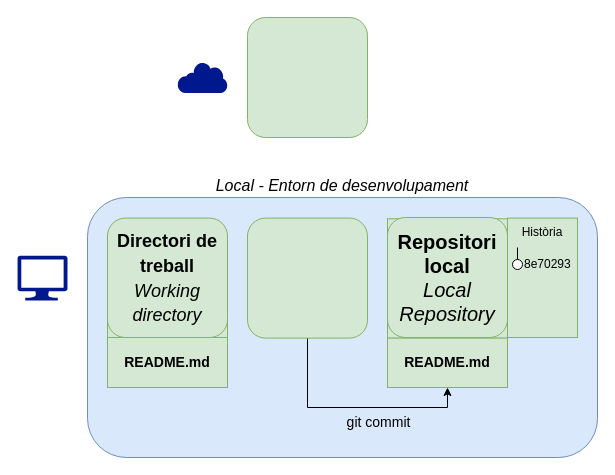
The diagram is 615 pixels wide and 475 high, and some of its shapes have lost their labels. Each missing label, with the centre of its shape:
Repositori Remot Remote Repository: the point at 307,77
Àrea de preparació Staging Area: the point at 307,277
